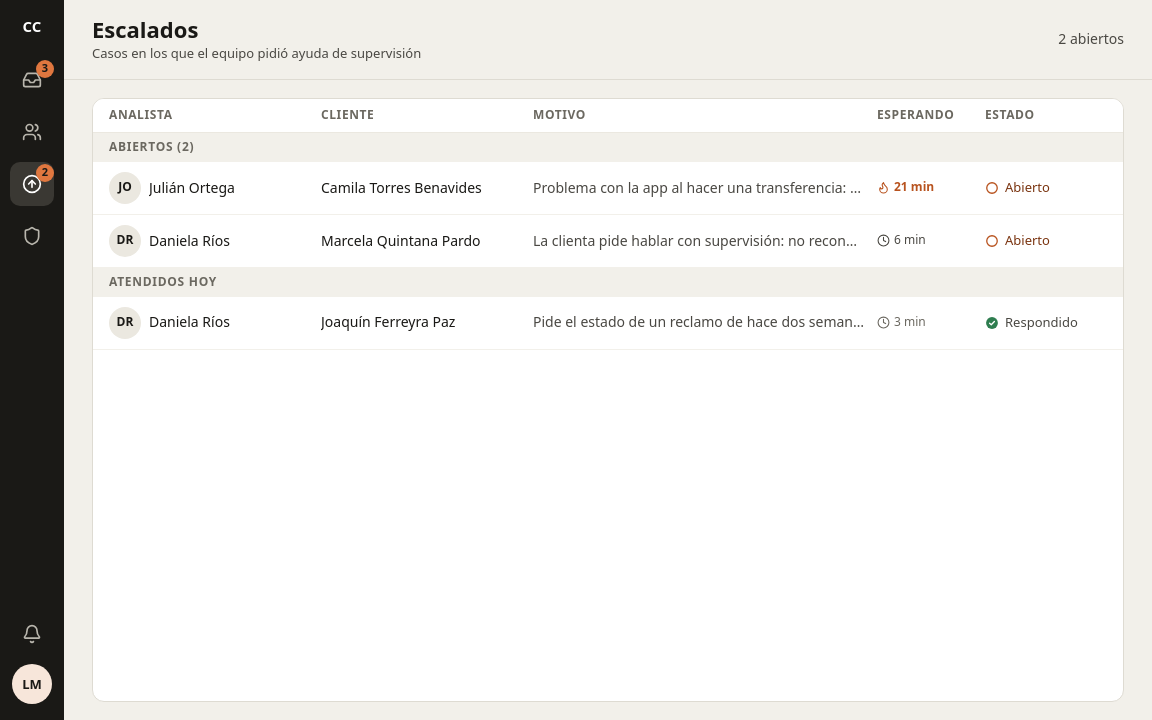
Scenario: escalations screen ("Escalados") › opens the panel with the motive, the case and its last messages
Click the button "Camila Torres Benavides" at (608, 188), box [93,162,1123,214]
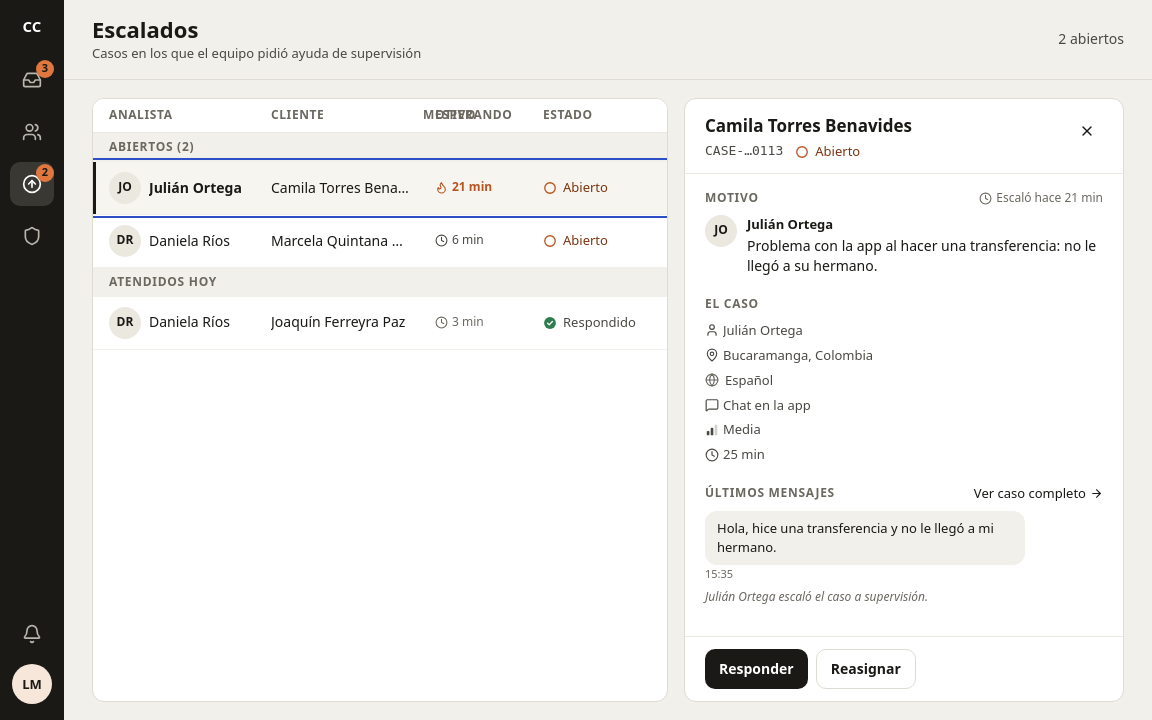
Result: the text "Escaló hace 21 min" is shown at [996,190,1103,207]
Result: the text "Bucaramanga, Colombia" is shown at [723,346,873,365]
Result: the text "Hola, hice una transferencia y no le llegó a mi hermano." is shown at [705,511,1025,565]
